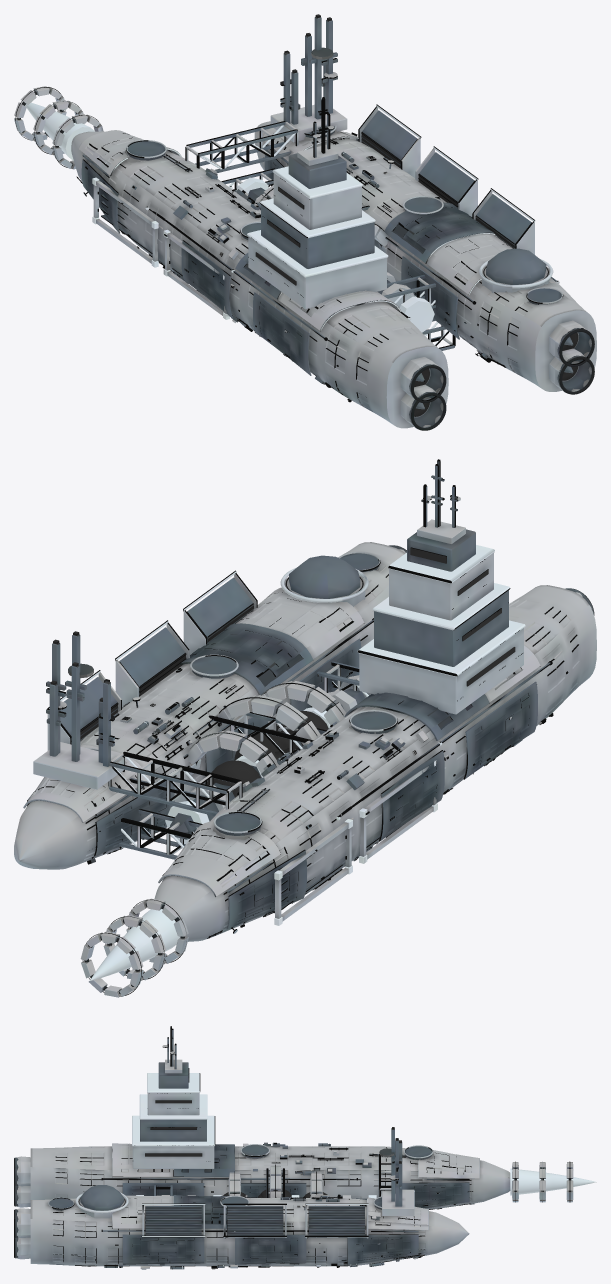
Rendered from solis_regent_hero.glb.
3 renders of one model, top to bottom at view 1: azimuth 30°, elevation 25°; view 2: azimuth 150°, elevation 25°; view 3: azimuth 270°, elevation 25°, orthographic. The views are drawn at different scales.
Visible parts, largest first — view 1: HullBaked; view 2: HullBaked; view 3: HullBaked.
Boxes of the visible parts, x1=… form: HullBaked: x1=14, y1=14, x2=596, y2=430; HullBaked: x1=14, y1=459, x2=596, y2=997; HullBaked: x1=14, y1=1026, x2=596, y2=1269.
Bounding box in the file's own units: 391 × 424 × 1142.
1 material, 1 textured.
